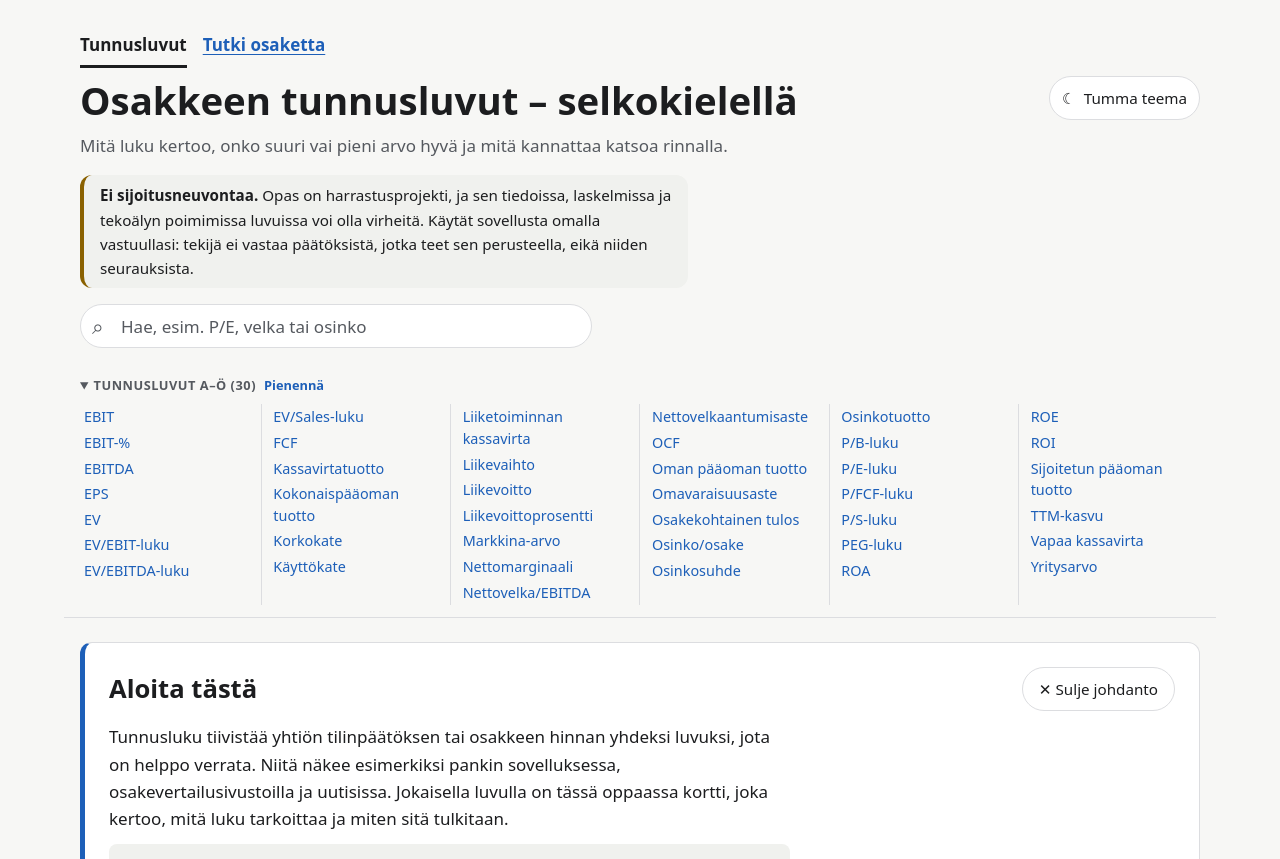
Scenario: sivulinkit › vievät sivulta toiselle, ja osoite ja kohdistus seuraavat
Click the link "Tutki osaketta" at (264, 44), box [203, 33, 325, 56]
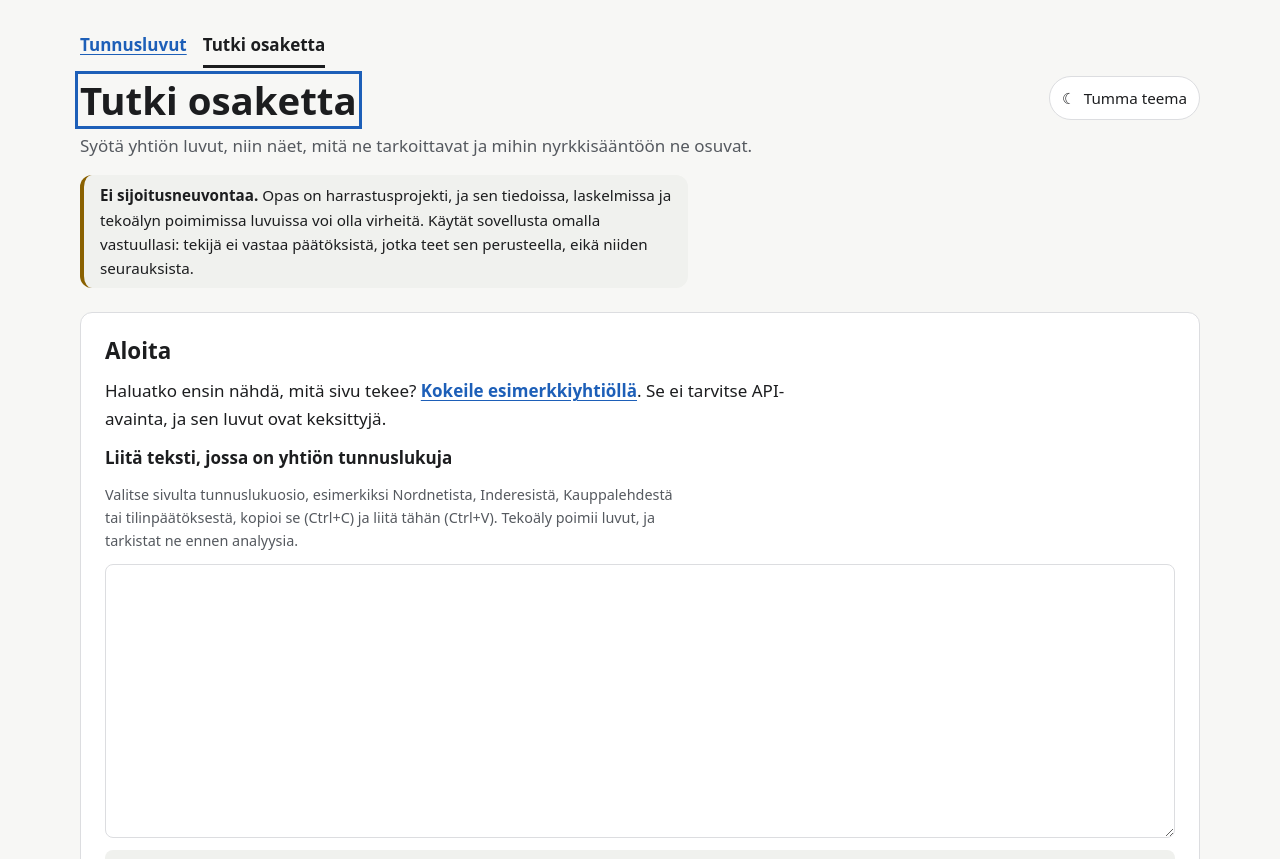
Expected: the search field labelled "Hae tunnuslukua" is not shown
Expected: the heading "Tutki osaketta" is shown, [80, 76, 357, 124]
Click the link "Tunnusluvut" at (133, 44), box [80, 33, 187, 56]
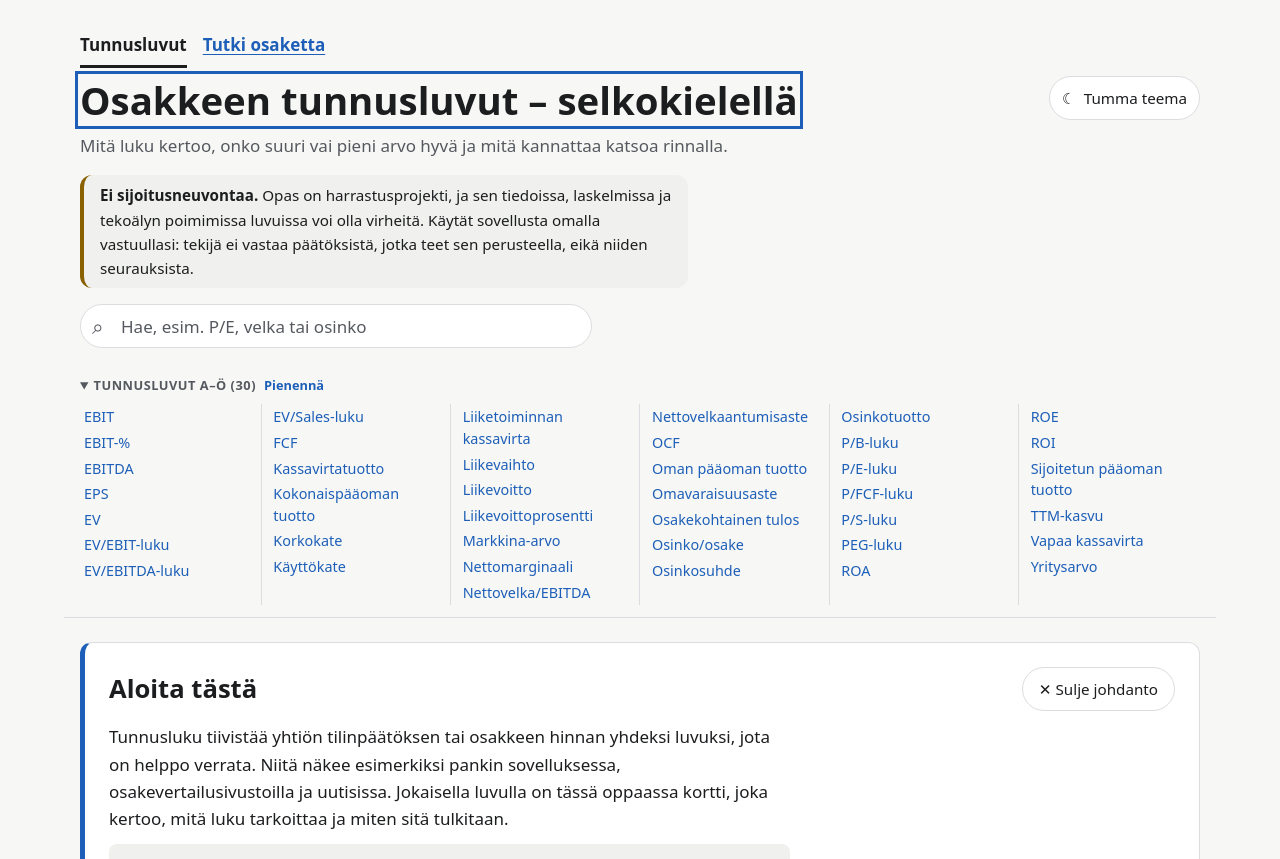
Expected: the heading "Osakkeen tunnusluvut – selkokielellä" is shown, [80, 76, 798, 124]
